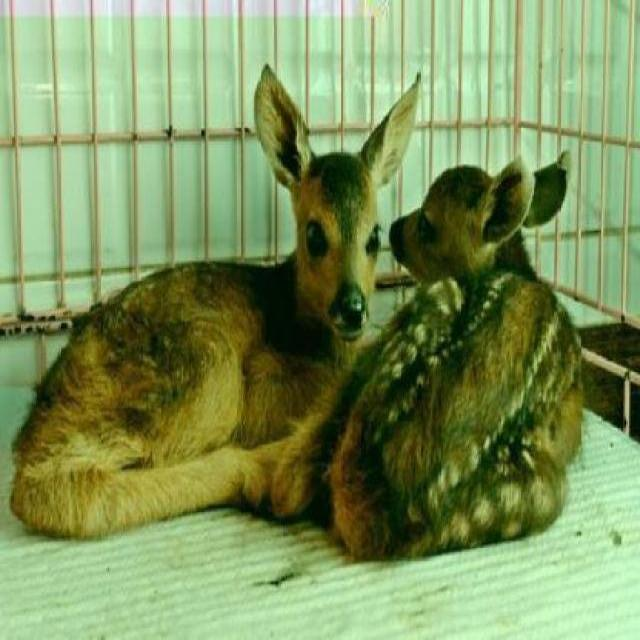deer: (19, 60, 386, 525)
